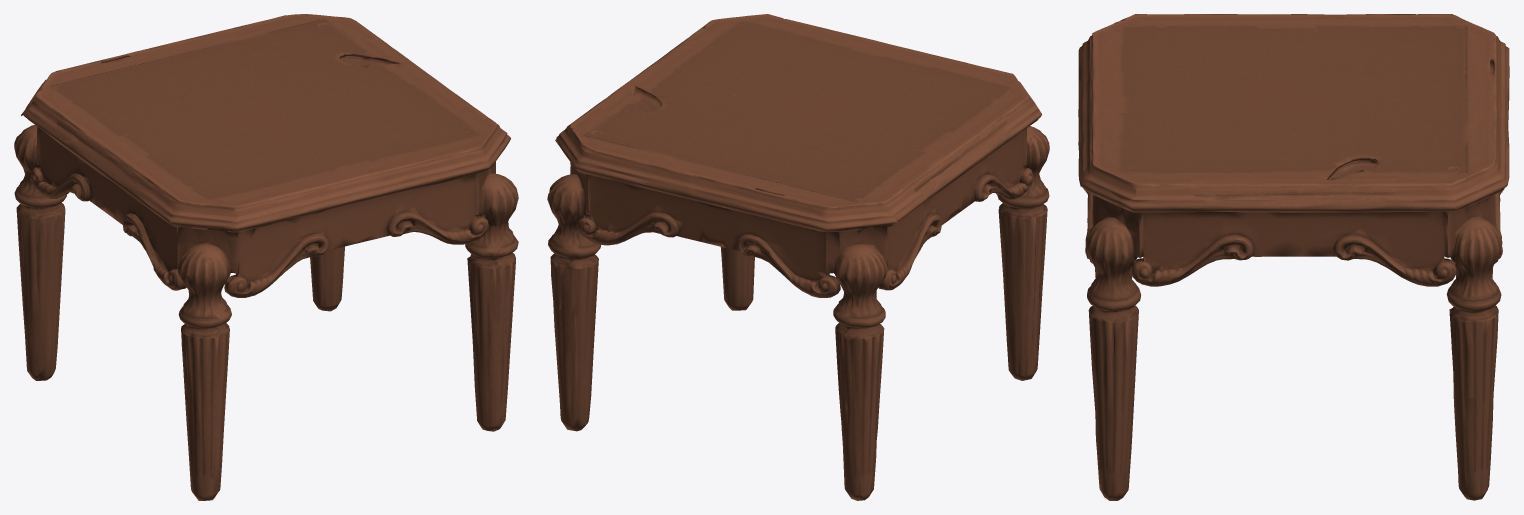
The model's file is fahrenheit-side-table.glb.
3 views of the same model, side by side, from view 1: azimuth 30°, elevation 25°; view 2: azimuth 150°, elevation 25°; view 3: azimuth 270°, elevation 25° (orthographic). The views are drawn at different scales.
Size of the model in its own units: 2 by 1.63 by 1.98.
Materials: 1 (1 with a texture image).
